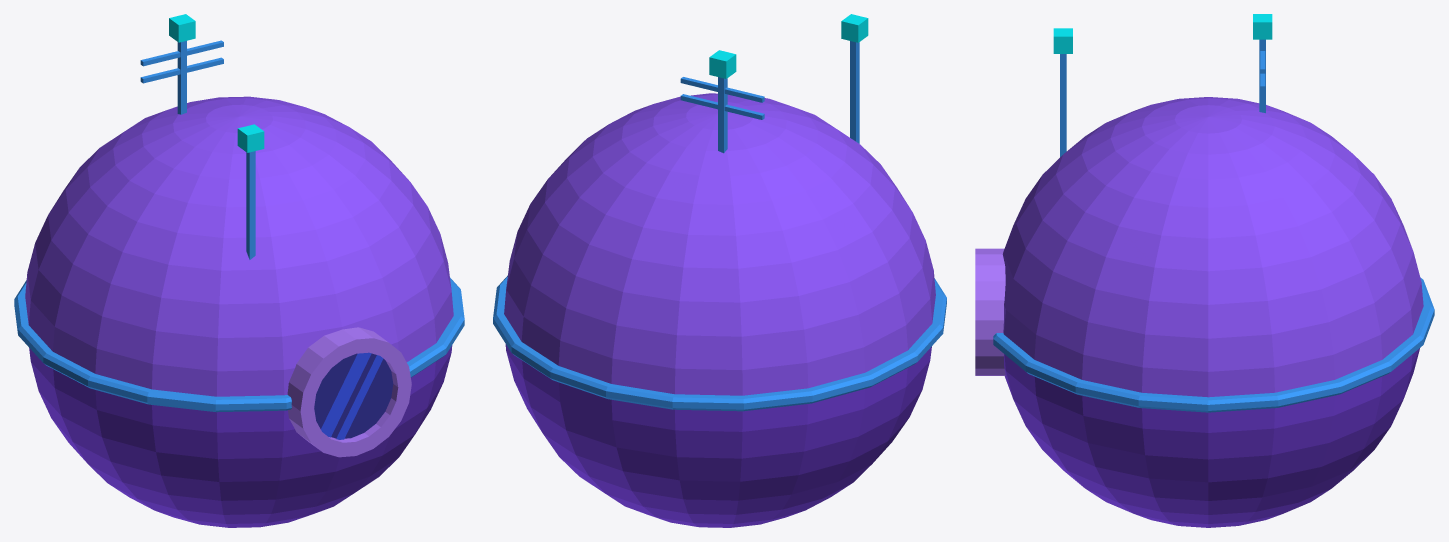
The model's file is Building_014_g.fbx.
3 views of the same model, side by side, from view 1: azimuth 30°, elevation 25°; view 2: azimuth 150°, elevation 25°; view 3: azimuth 270°, elevation 25° (orthographic).
Parts seen in each view (by area): view 1: Building_014_g_h; view 2: Building_014_g_h; view 3: Building_014_g_h.
Part boxes in pixels (bbox=[...]): Building_014_g_h: bbox=[14, 14, 464, 527]; Building_014_g_h: bbox=[493, 14, 946, 527]; Building_014_g_h: bbox=[975, 14, 1434, 527].
Bounding box in the file's own units: 13.22 × 15.33 × 13.42.
